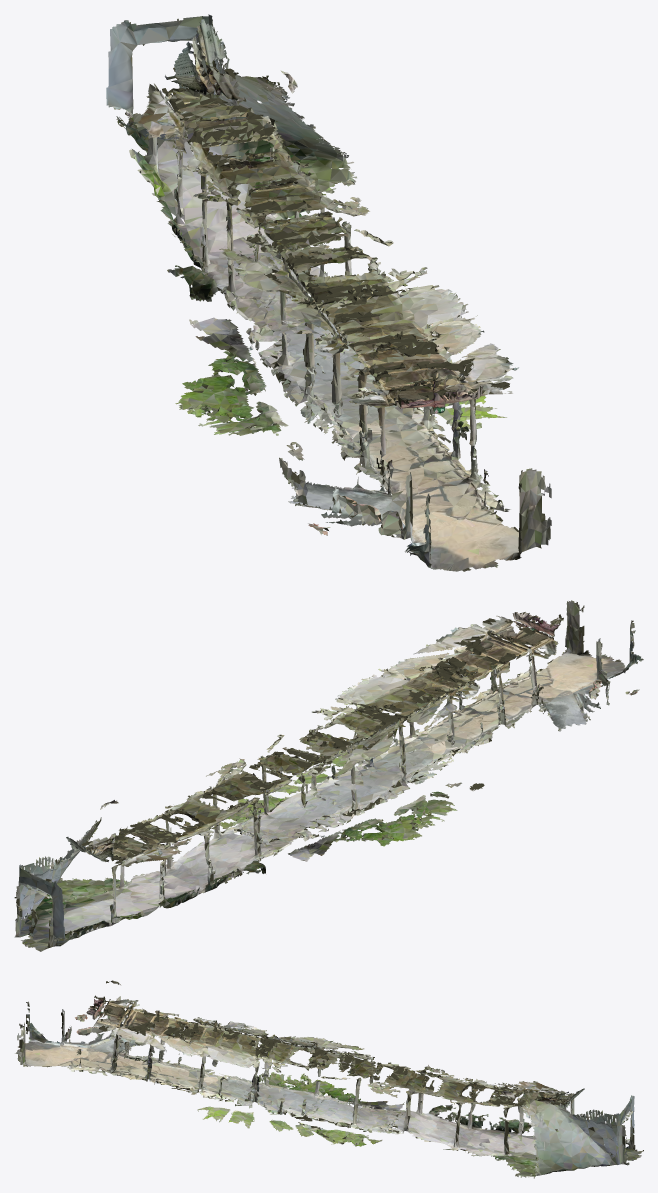
The picture shows the model from 3 angles, top to bottom: view 1: azimuth 30°, elevation 25°; view 2: azimuth 150°, elevation 25°; view 3: azimuth 270°, elevation 25°; orthographic projection. The views are drawn at different scales.
Parts seen in each view (by area): view 1: model; view 2: model; view 3: model.
Part boxes in pixels (x1,y1,x2,y2): model: [106, 14, 551, 571]; model: [14, 600, 643, 951]; model: [15, 980, 643, 1178].
Size of the model in its own units: 1568 by 638 by 3458.
Materials: 1 (1 with a texture image).
